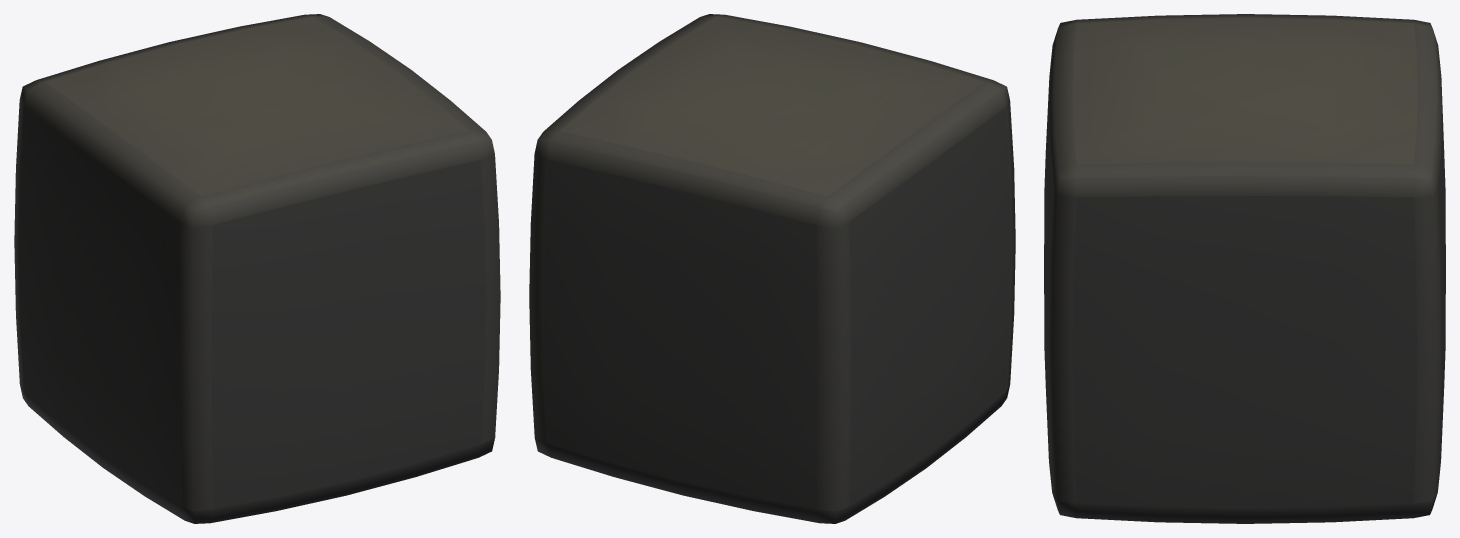
File: block_stone4_3_LOD_setup.fbx
3 views of the same model, side by side, from view 1: azimuth 30°, elevation 25°; view 2: azimuth 150°, elevation 25°; view 3: azimuth 270°, elevation 25° (orthographic). The views are drawn at different scales.
Visible parts, largest first — view 1: block_stone4_3_LOD0; view 2: block_stone4_3_LOD0; view 3: block_stone4_3_LOD0.
Boxes of the visible parts, x1,y1,x2,y2 form: block_stone4_3_LOD0: (14,14,500,523); block_stone4_3_LOD0: (529,14,1015,523); block_stone4_3_LOD0: (1044,14,1445,523).
Size of what is drawn, in the model's own units: 109 by 109 by 109.
